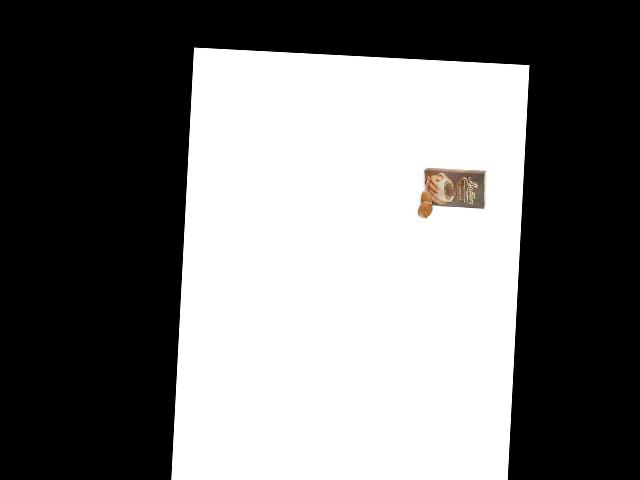chocolate: (420, 164, 489, 214)
